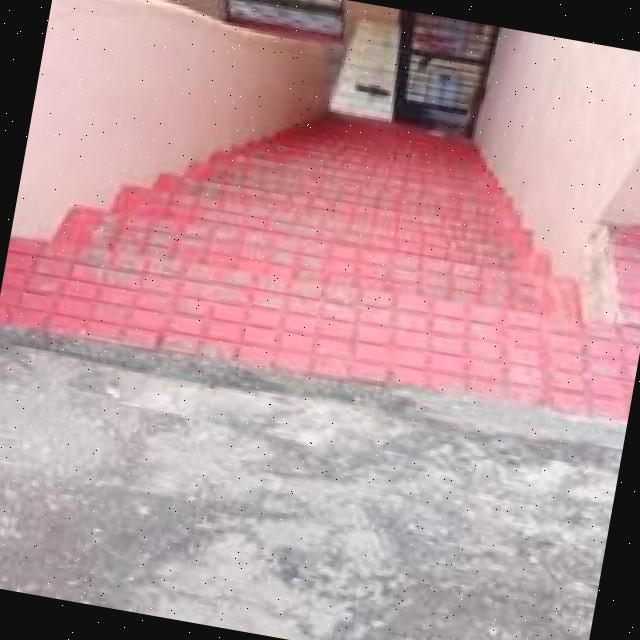stairs: (0, 55, 640, 446)
